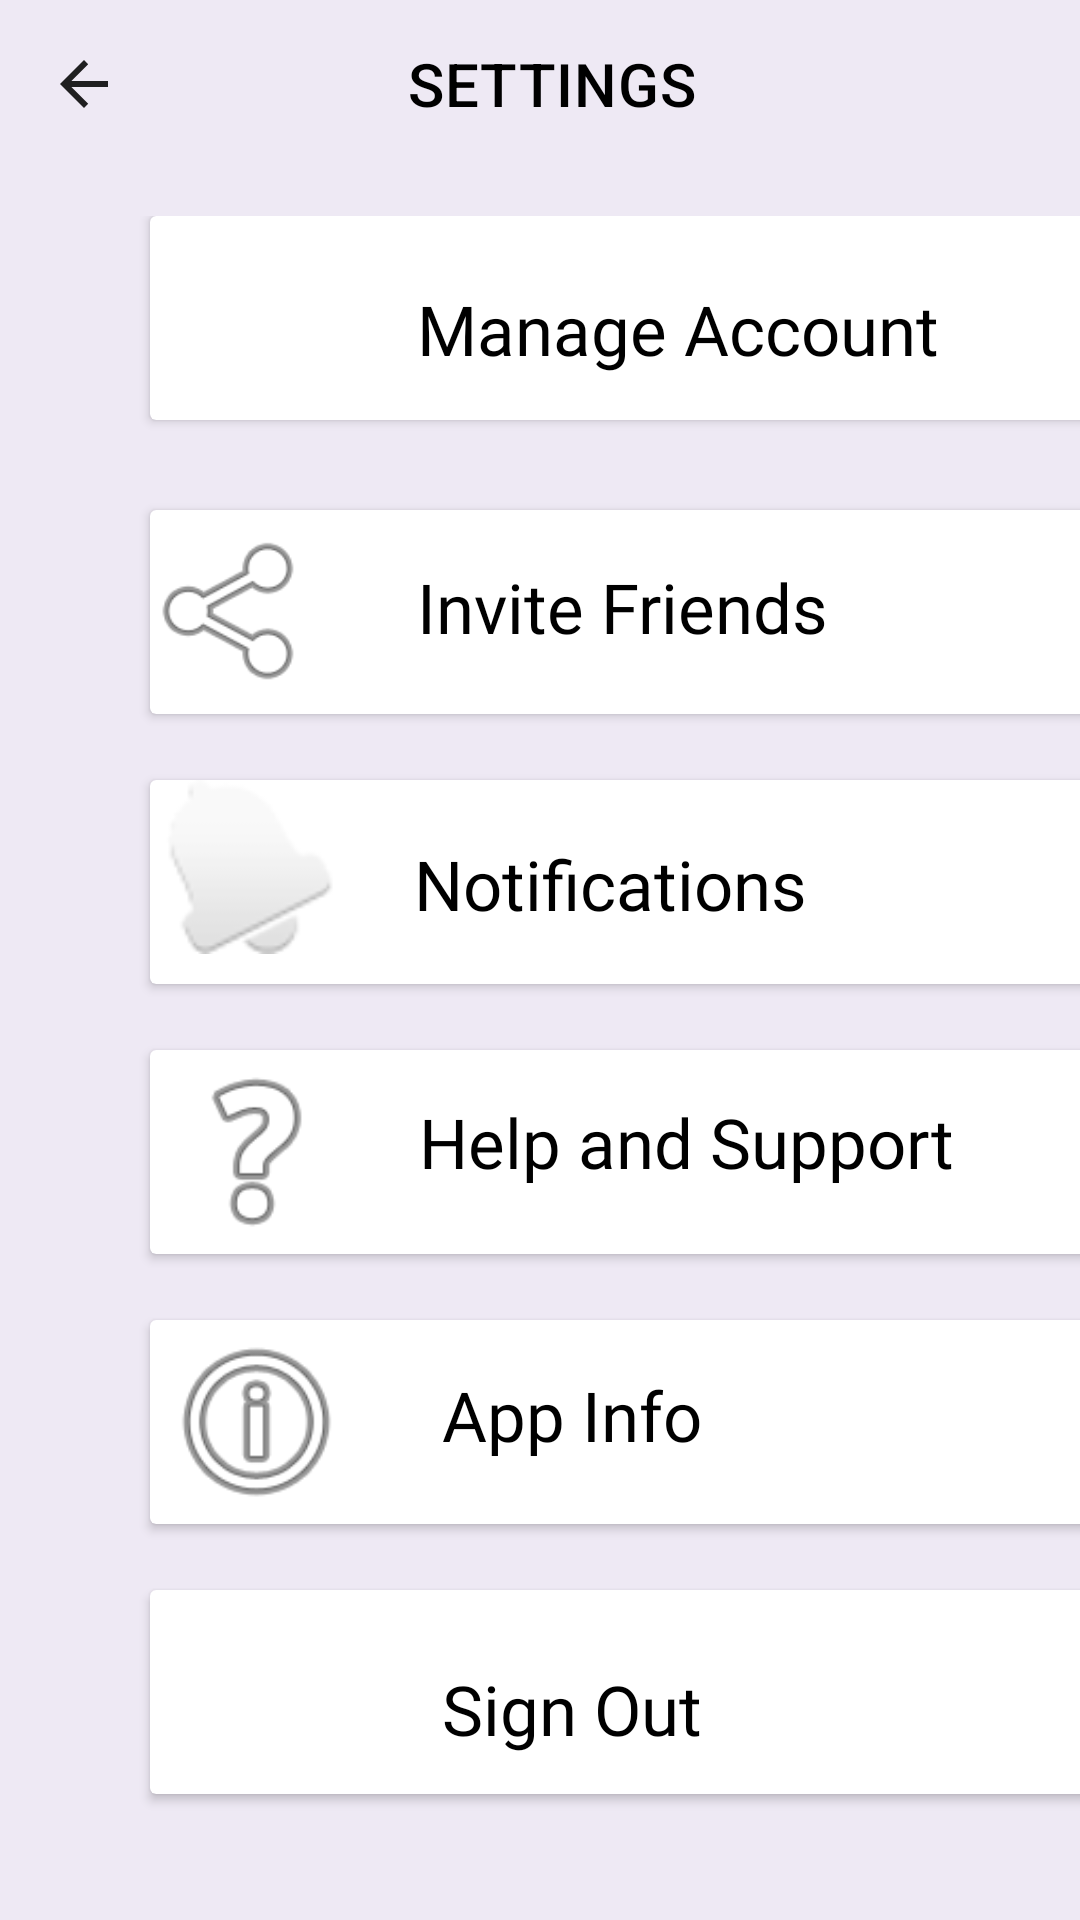

Where to tap for icons on this 1080x1920 app screen, as point (x, y):
info details: point (256, 1422)
share: point (227, 611)
